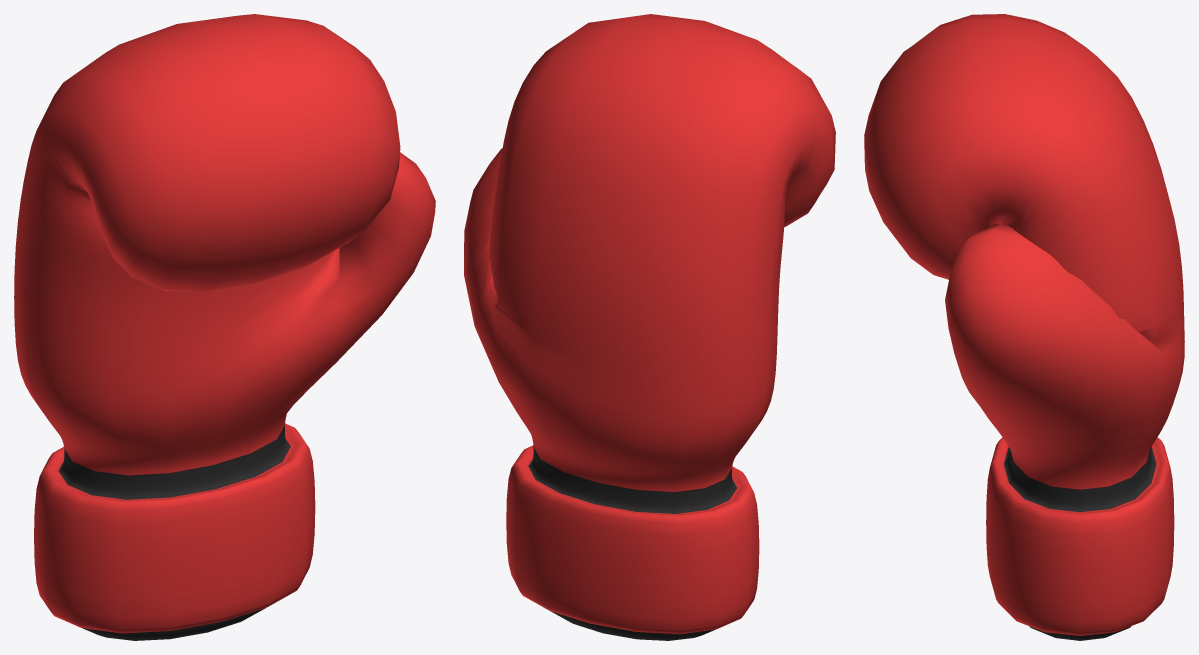
Rendered from glove.fbx.
3 renders of one model, left to right at view 1: azimuth 30°, elevation 25°; view 2: azimuth 150°, elevation 25°; view 3: azimuth 270°, elevation 25°, orthographic. The views are drawn at different scales.
Visible parts, largest first — view 1: Glove; view 2: Glove; view 3: Glove.
Boxes of the visible parts, bbox=[...] form: Glove: bbox=[14, 14, 435, 640]; Glove: bbox=[464, 14, 835, 640]; Glove: bbox=[864, 14, 1184, 640].
Size of the model in its own units: 284 by 467 by 239.
